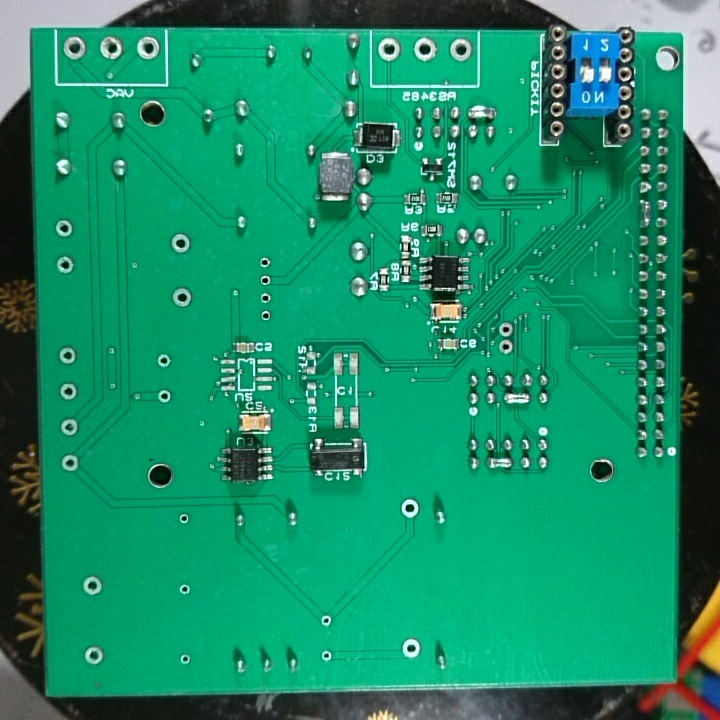F: (133, 34, 162, 63), (60, 35, 89, 63), (97, 35, 126, 63), (375, 36, 403, 63), (412, 36, 439, 64), (448, 37, 474, 63), (170, 286, 196, 309), (169, 232, 195, 255), (81, 574, 104, 598), (54, 254, 78, 277), (400, 495, 422, 520), (401, 637, 423, 660), (83, 645, 105, 668), (53, 218, 75, 240), (60, 451, 81, 473), (59, 416, 79, 439), (58, 345, 78, 368), (58, 381, 79, 402), (496, 320, 517, 340), (495, 338, 517, 356), (155, 352, 171, 372), (258, 290, 275, 307), (156, 387, 172, 405), (259, 308, 275, 325), (318, 612, 334, 628), (178, 582, 194, 598), (319, 648, 334, 664), (178, 510, 193, 526), (258, 273, 274, 288), (258, 255, 273, 271), (178, 652, 195, 666)
P: (466, 103, 500, 122), (636, 196, 653, 232), (484, 455, 515, 472), (502, 391, 532, 408)
